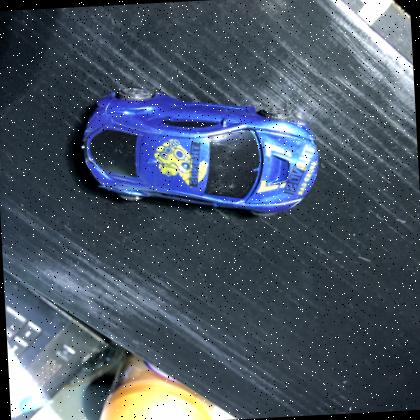Car: (69, 73, 327, 231)
